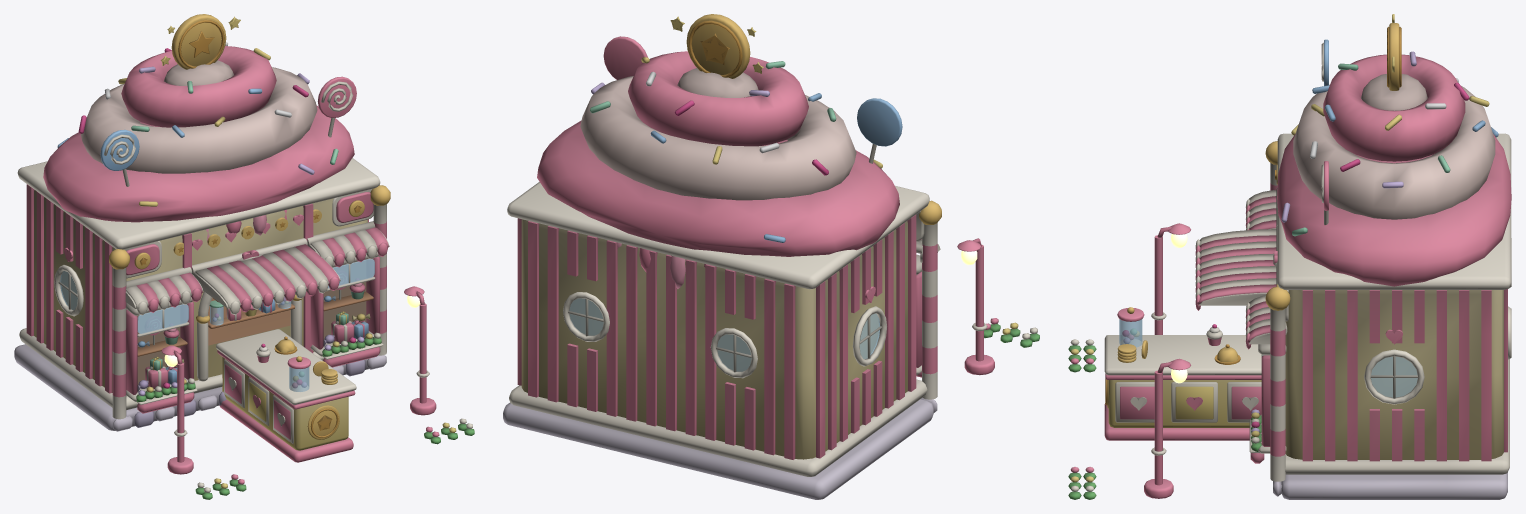
Rendered from coin-shop.glb.
3 renders of one model, left to right at view 1: azimuth 30°, elevation 25°; view 2: azimuth 150°, elevation 25°; view 3: azimuth 270°, elevation 25°, orthographic. The views are drawn at different scales.
Parts seen in each view (by area): view 1: COIN_SHOP__body; view 2: COIN_SHOP__body; view 3: COIN_SHOP__body.
Part boxes in pixels (x1,y1,x2,y2): COIN_SHOP__body: [14, 14, 474, 499]; COIN_SHOP__body: [503, 14, 1039, 499]; COIN_SHOP__body: [1068, 14, 1511, 499].
Size of the model in its own units: 1.66 by 1.99 by 2.
